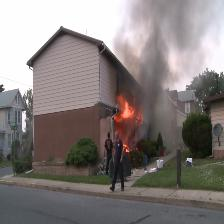fire: (111, 92, 150, 165)
smoke: (118, 0, 224, 138)
